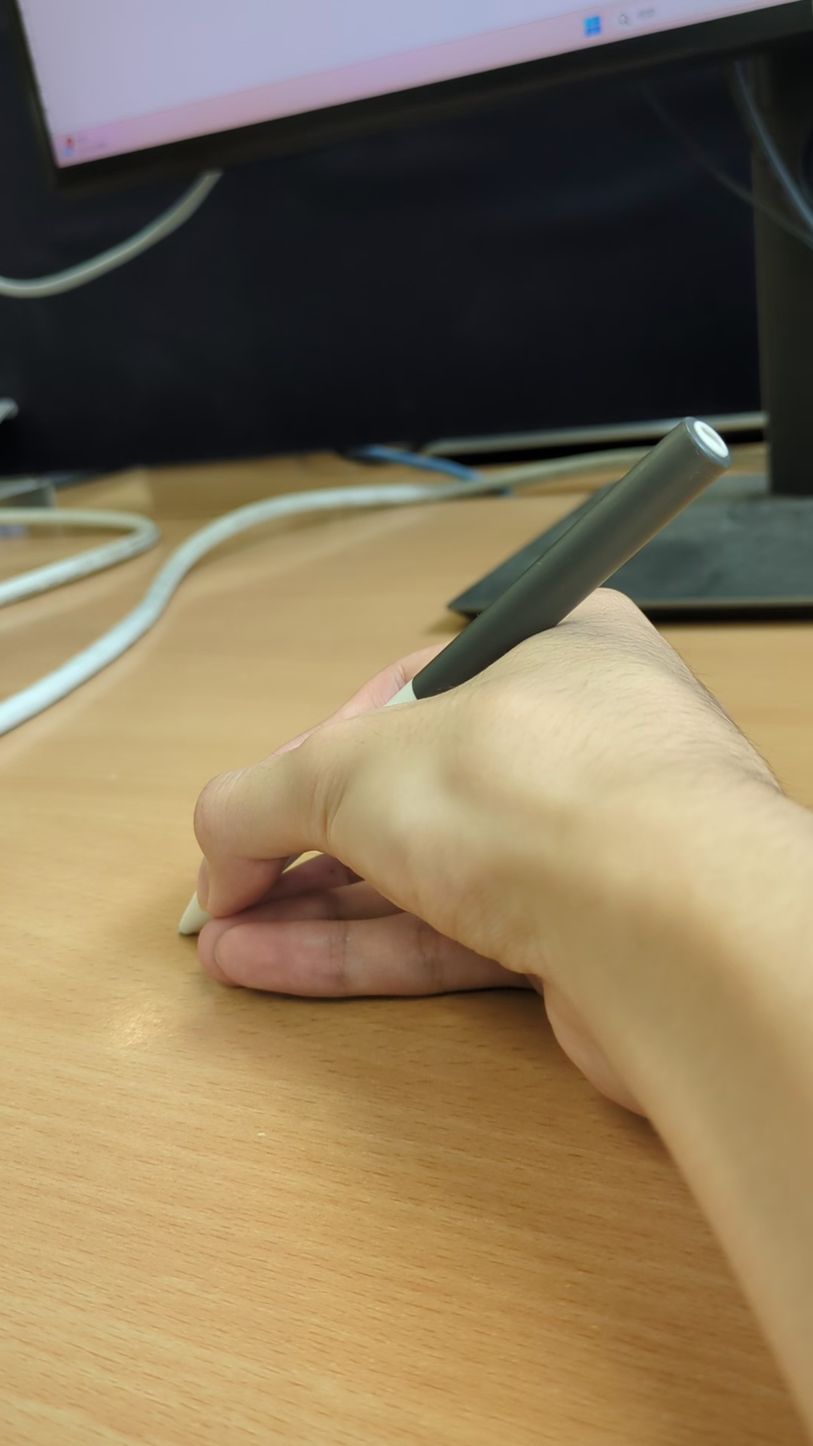pen: (171, 418, 735, 940)
tip: (172, 913, 196, 940)
